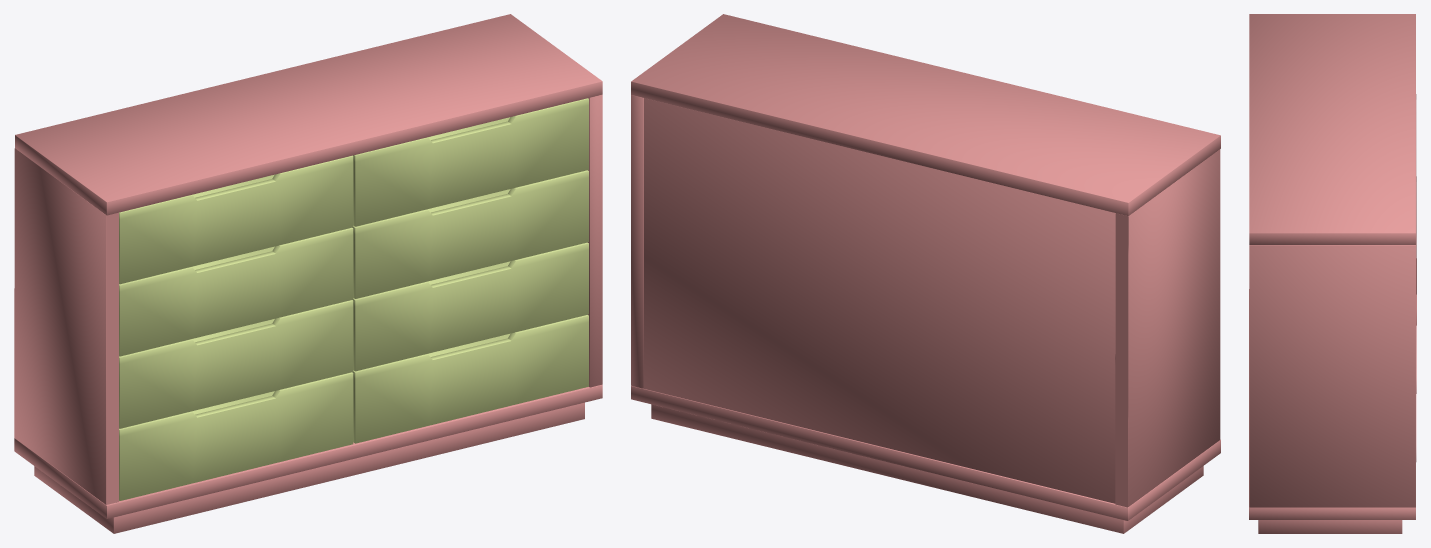
The model's file is Commode_OBJ.obj.
3 renders of one model, left to right at view 1: azimuth 30°, elevation 25°; view 2: azimuth 150°, elevation 25°; view 3: azimuth 270°, elevation 25°, orthographic. The views are drawn at different scales.
Parts seen in each view (by area): view 1: Box021, Box030, Box032, Box031, Box027, Box026, Box025, Box029, Box028; view 2: Box021; view 3: Box021.
Boxes of the visible parts, bbox=[...] form: Box021: bbox=[14, 14, 602, 533]; Box030: bbox=[352, 170, 588, 298]; Box032: bbox=[352, 315, 588, 443]; Box031: bbox=[353, 242, 588, 371]; Box027: bbox=[119, 227, 353, 356]; Box026: bbox=[119, 300, 353, 428]; Box025: bbox=[119, 372, 353, 500]; Box029: bbox=[353, 98, 588, 226]; Box028: bbox=[119, 155, 353, 284]; Box021: bbox=[631, 14, 1220, 533]; Box021: bbox=[1249, 14, 1416, 533].
Size of the model in its own units: 55.12 by 35.95 by 17.85.
